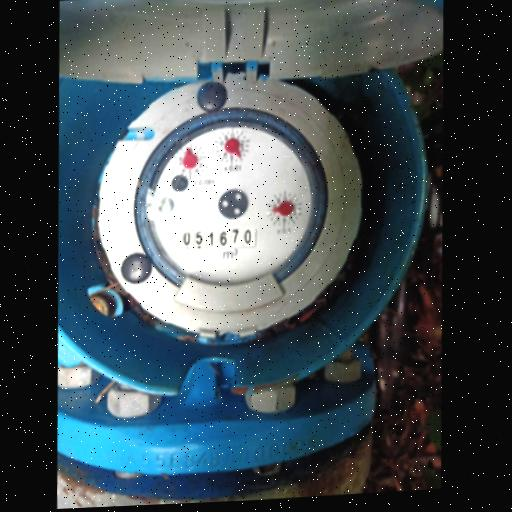0: (182, 232, 195, 249), (244, 229, 255, 246)
1: (207, 231, 218, 249)
5: (195, 231, 206, 249)
6: (219, 230, 230, 247)
7: (231, 229, 244, 247)
border_water_meter_number: (181, 226, 258, 251)
